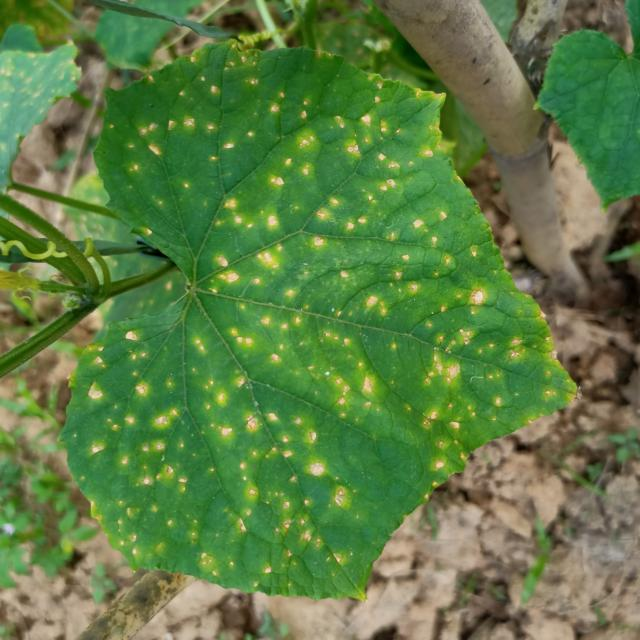disease_cucumber: (58, 56, 528, 572)
